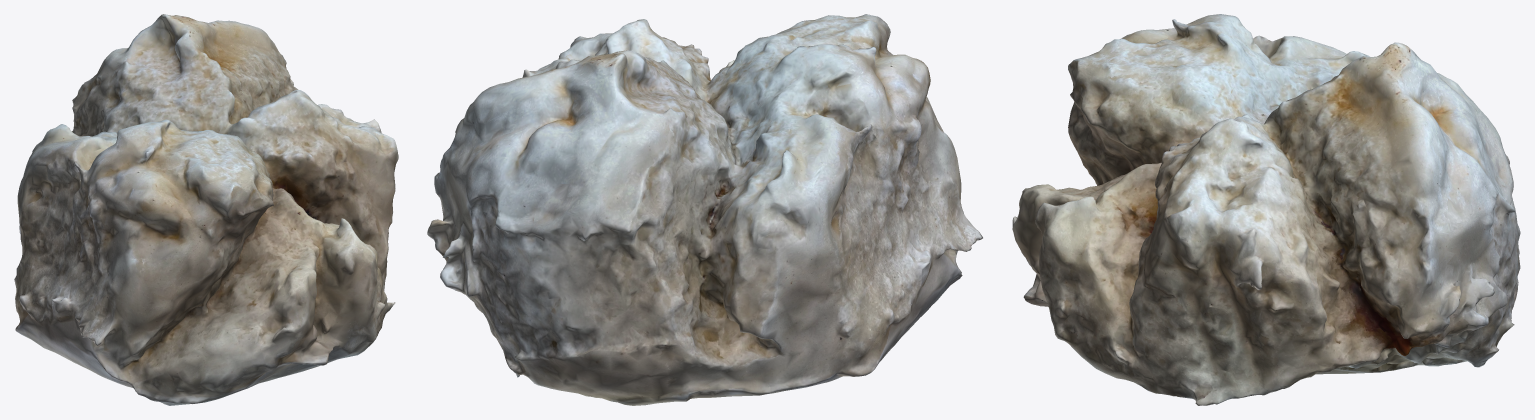
The model's file is BBQ Pork Bun.glb.
3 views of the same model, side by side, from view 1: azimuth 30°, elevation 25°; view 2: azimuth 150°, elevation 25°; view 3: azimuth 270°, elevation 25° (orthographic). The views are drawn at different scales.
Visible parts, largest first — view 1: Mesh_0; view 2: Mesh_0; view 3: Mesh_0.
Part boxes in pixels (x1,y1,x2,y2): Mesh_0: (14, 14, 398, 405); Mesh_0: (427, 14, 982, 405); Mesh_0: (1012, 14, 1520, 405).
Bounding box in the file's own units: 0.1019 × 0.0743 × 0.11.
Materials: 1 (1 with a texture image).
